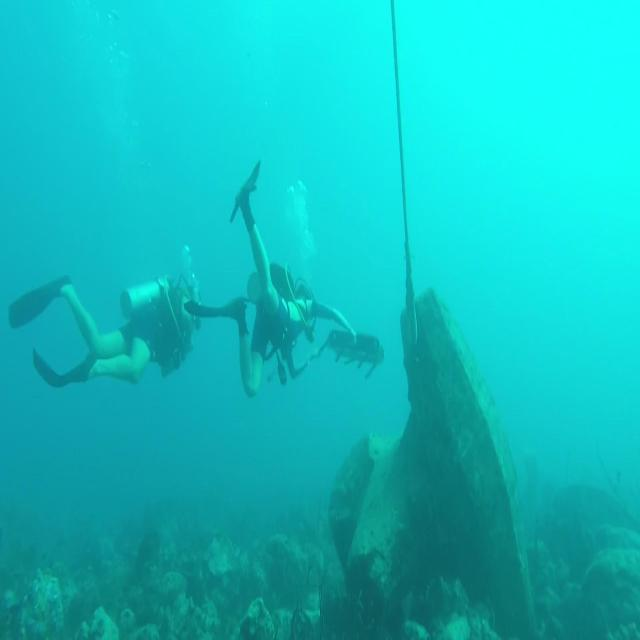human: (183, 158, 356, 398), (8, 265, 202, 388)
